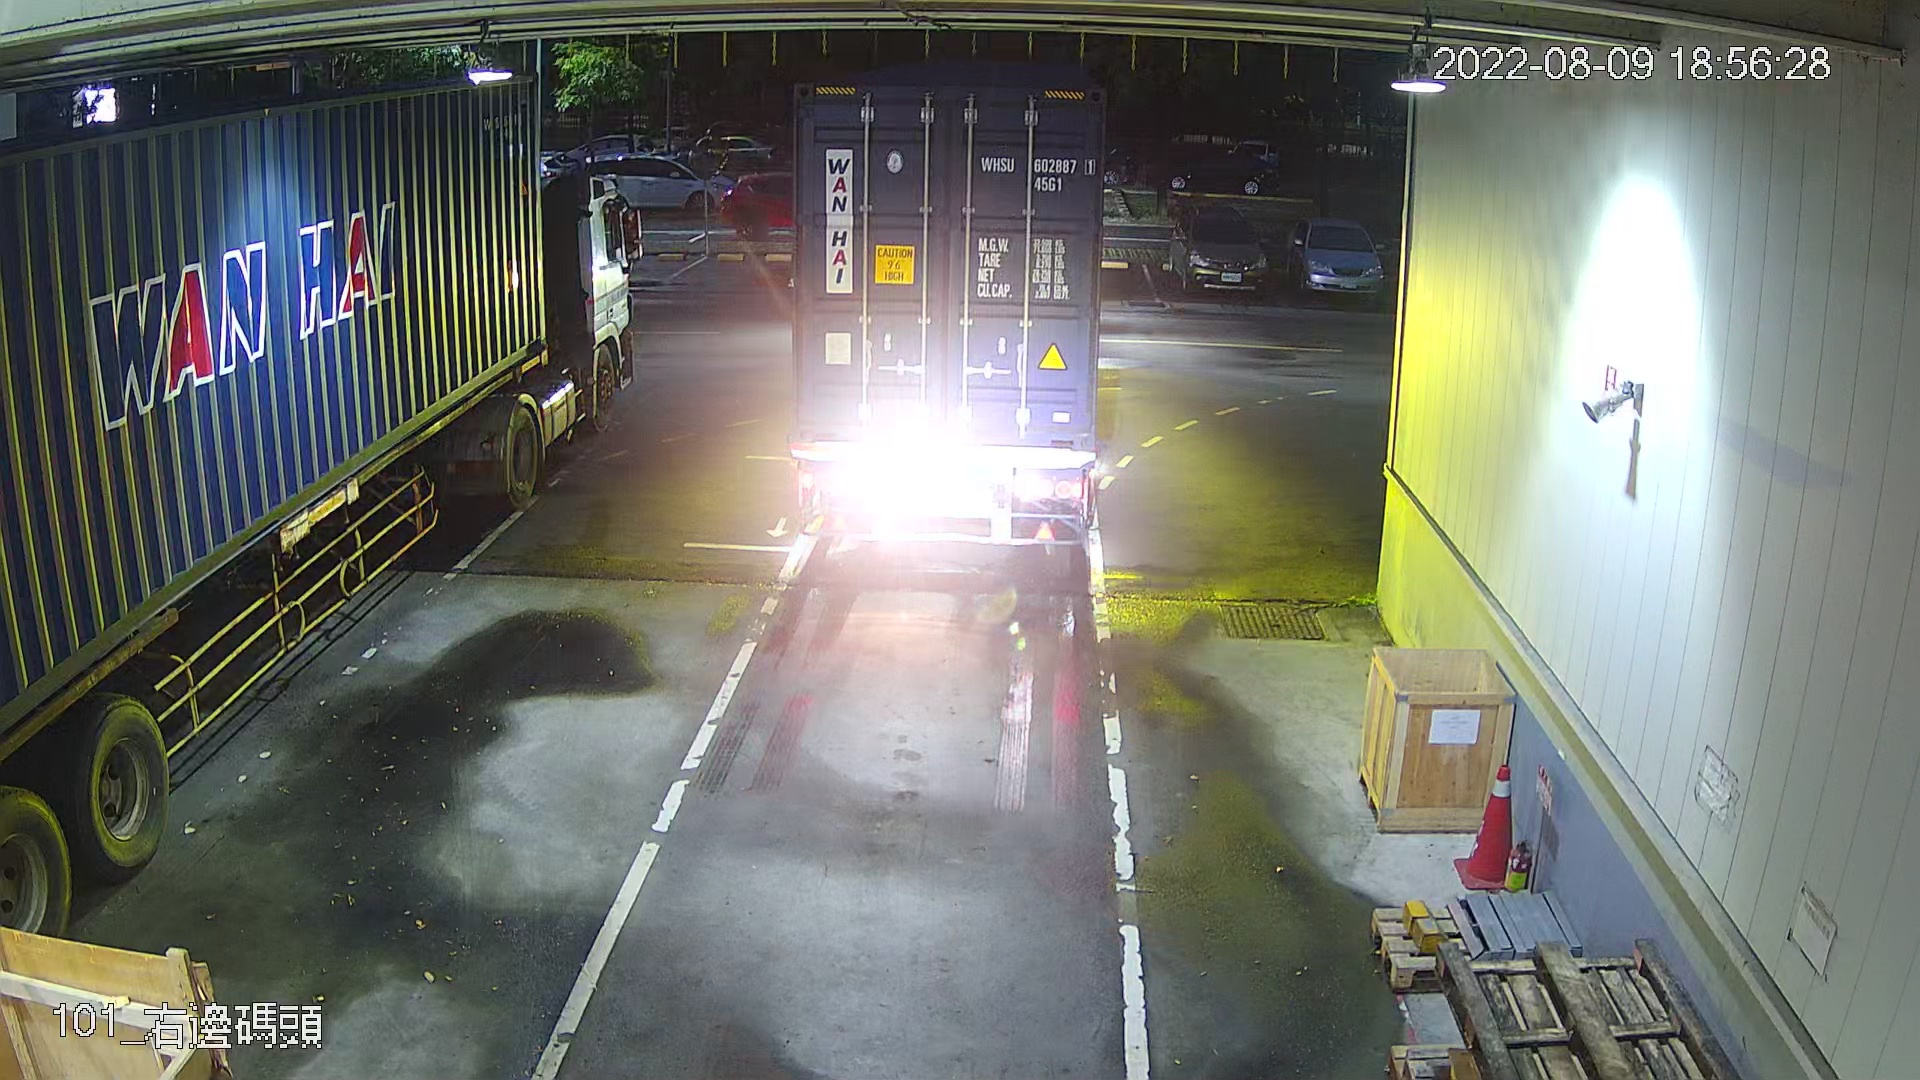container: (975, 149, 1098, 199)
